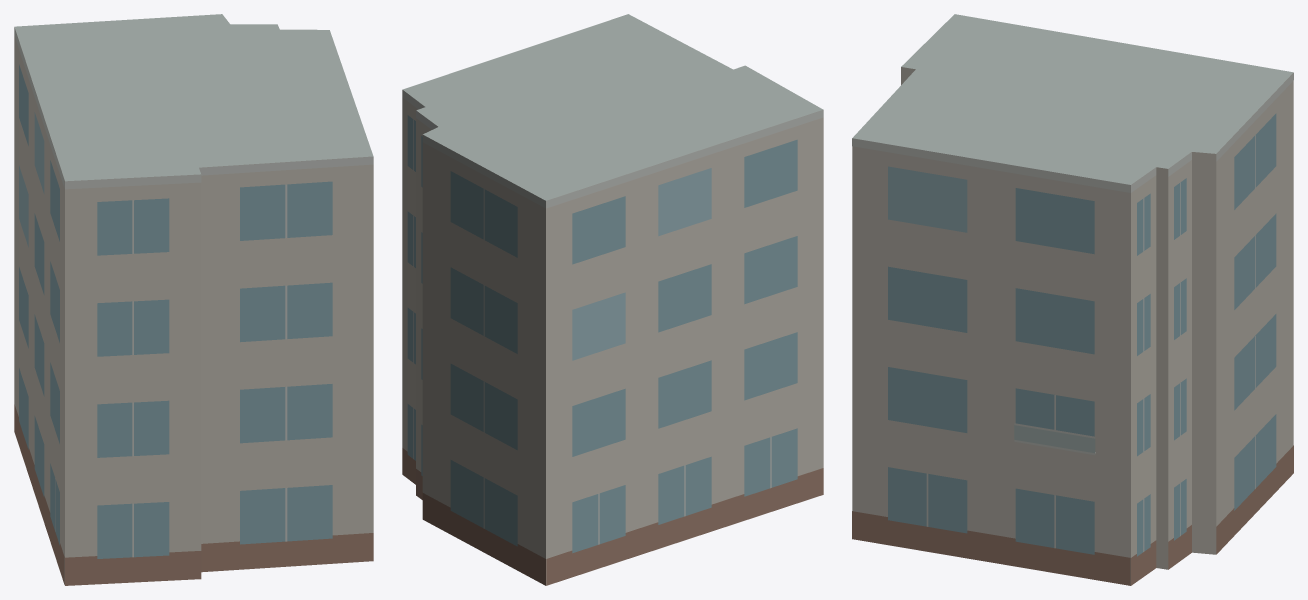
Rendered from survey-upis-32706242.glb.
3 renders of one model, left to right at view 1: azimuth 30°, elevation 25°; view 2: azimuth 150°, elevation 25°; view 3: azimuth 270°, elevation 25°, orthographic. The views are drawn at different scales.
Parts seen in each view (by area): view 1: survey-upis-32706242.tmp; view 2: survey-upis-32706242.tmp; view 3: survey-upis-32706242.tmp.
Part boxes in pixels (bbox=[...]): survey-upis-32706242.tmp: bbox=[14, 14, 373, 585]; survey-upis-32706242.tmp: bbox=[402, 14, 823, 585]; survey-upis-32706242.tmp: bbox=[852, 14, 1293, 585].
Bounding box in the file's own units: 11.17 × 12.2 × 12.19.
